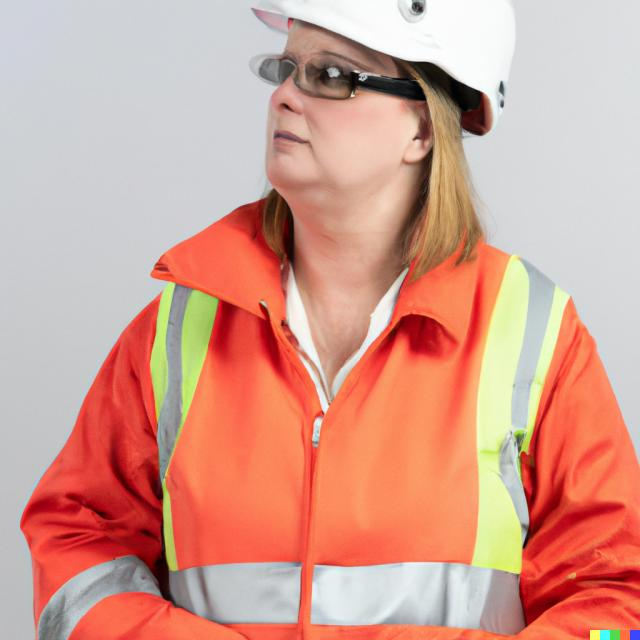Reflective-Jacket: (103, 210, 593, 640)
Safety-Helmet: (245, 1, 529, 114)
